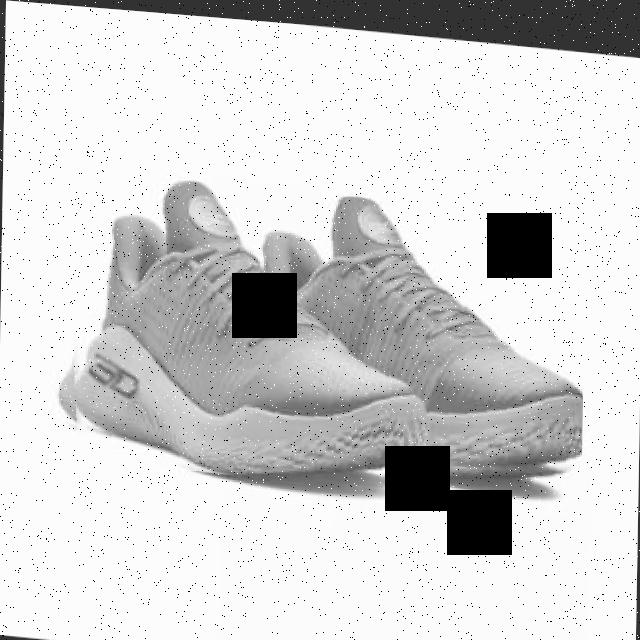shoe: (59, 166, 422, 488), (233, 182, 586, 479)
